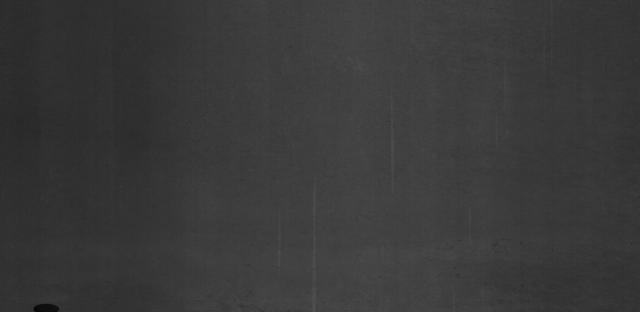punching_hole: (31, 300, 61, 312)
